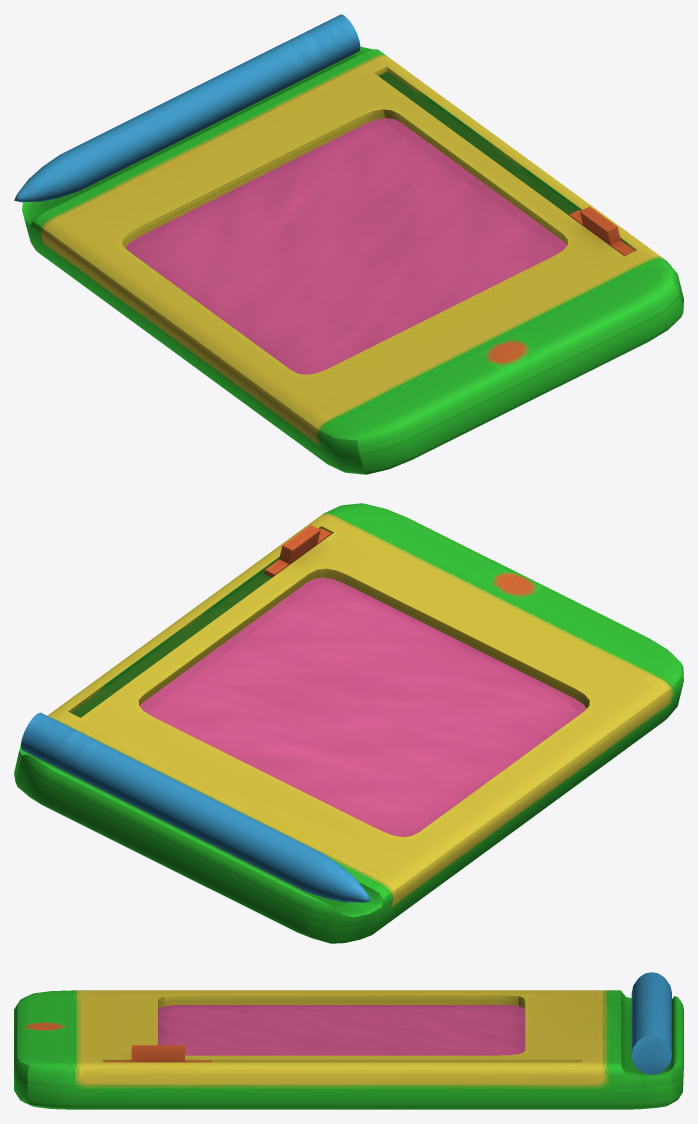
File: ref_gtdrawingboard.fbx
3 views of the same model, one above another, from view 1: azimuth 30°, elevation 25°; view 2: azimuth 150°, elevation 25°; view 3: azimuth 270°, elevation 25° (orthographic). The views are drawn at different scales.
Parts seen in each view (by area): view 1: ref_gtdrawingboard; view 2: ref_gtdrawingboard; view 3: ref_gtdrawingboard.
Boxes of the visible parts, x1,y1,x2,y2 form: ref_gtdrawingboard: (14, 14, 683, 474); ref_gtdrawingboard: (14, 503, 683, 943); ref_gtdrawingboard: (14, 972, 683, 1109).
Size of the model in its own units: 59.13 by 24.01 by 100.
Materials: 1 (1 with a texture image).
